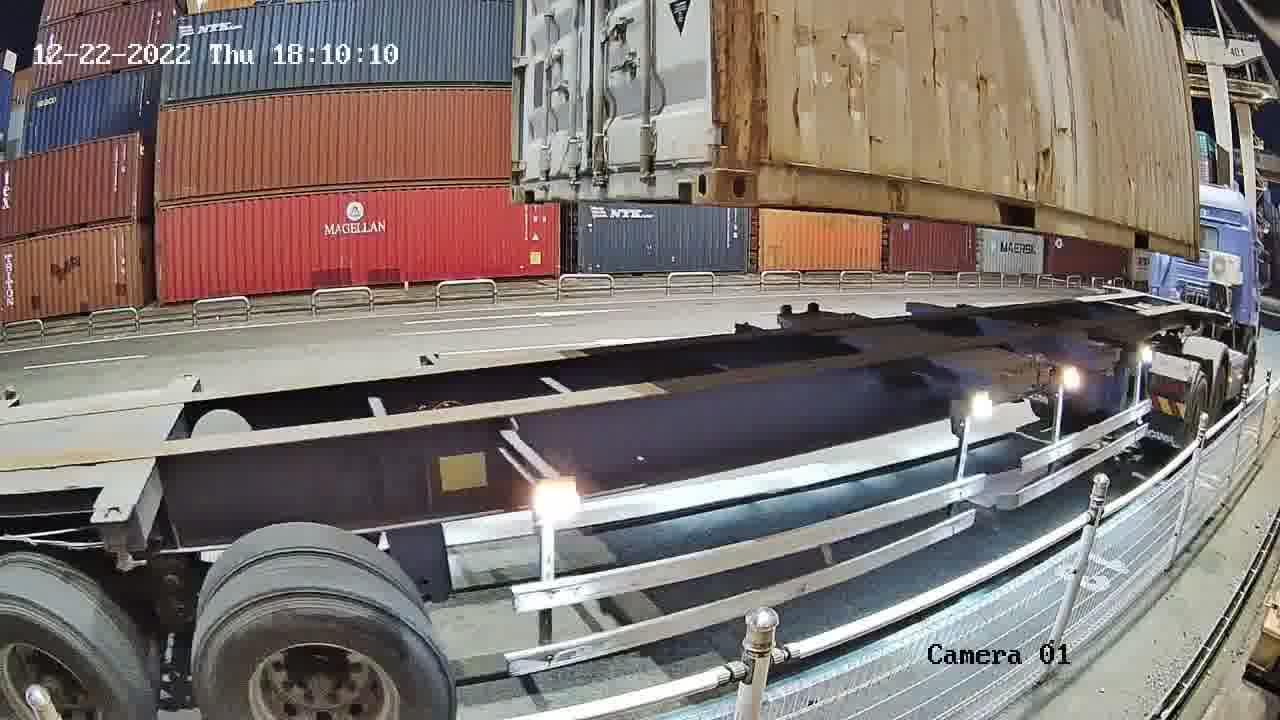Hole_L: (717, 133, 796, 207), (508, 165, 547, 202)
Hole_R: (664, 141, 719, 203)
Tire: (196, 592, 448, 717), (3, 597, 148, 717)
